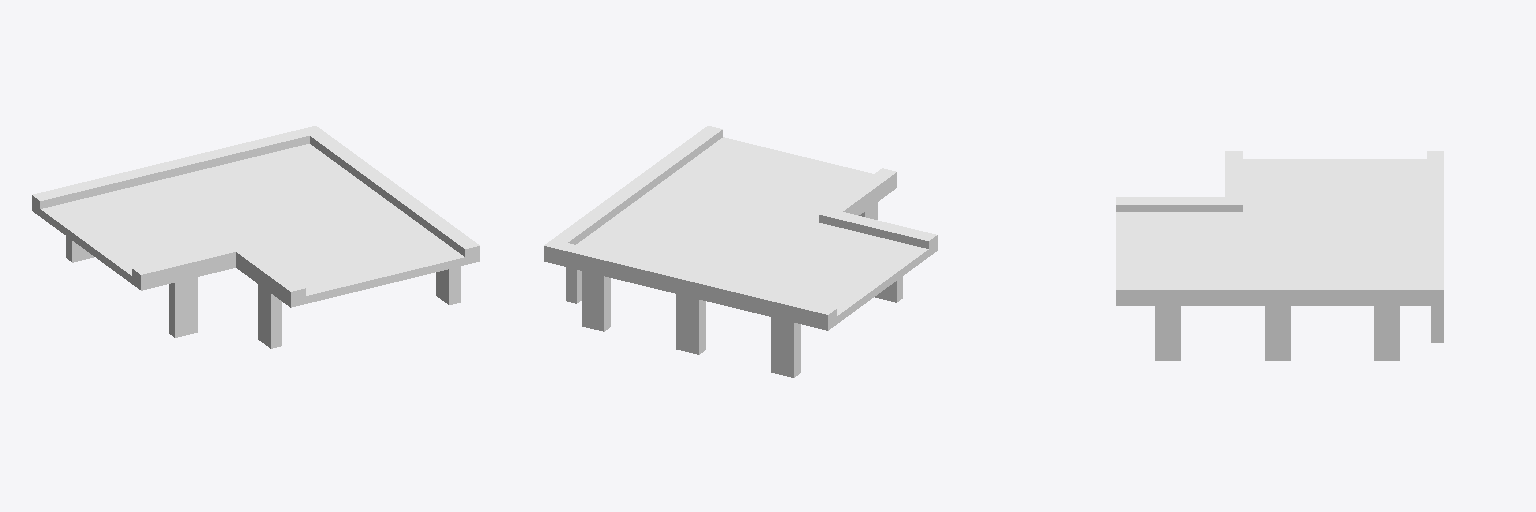
The model's file is Rotate_road.obj.
3 renders of one model, left to right at view 1: azimuth 30°, elevation 25°; view 2: azimuth 150°, elevation 25°; view 3: azimuth 270°, elevation 25°, orthographic.
Parts seen in each view (by area): view 1: Rotate_road; view 2: Rotate_road; view 3: Rotate_road.
Part boxes in pixels (x1,y1,x2,y2): Rotate_road: (32,126,479,348); Rotate_road: (544,126,937,377); Rotate_road: (1116,151,1443,360).
Size of the model in its own units: 75 by 18 by 75.